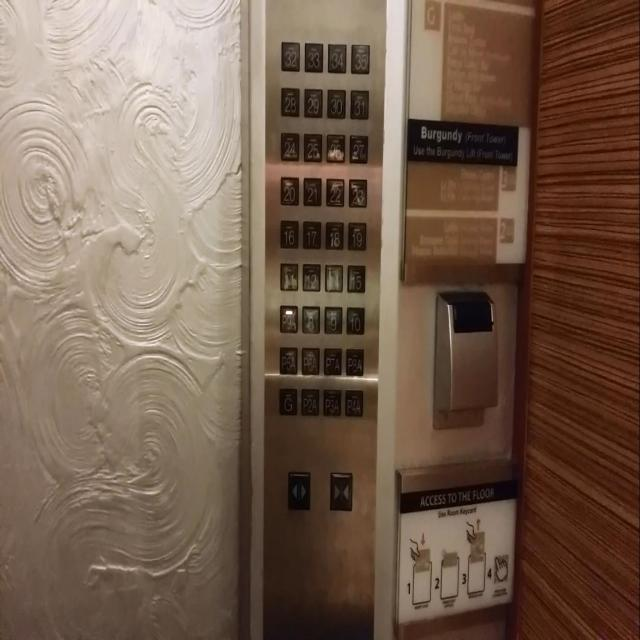10: (346, 305, 365, 335)
11: (279, 260, 298, 292)
12: (302, 262, 320, 291)
14: (324, 264, 343, 292)
15: (347, 263, 365, 294)
16: (280, 218, 298, 250)
17: (302, 219, 321, 249)
18: (325, 220, 344, 250)
19: (347, 221, 366, 251)
20: (280, 174, 299, 206)
21: (302, 176, 322, 207)
22: (326, 176, 344, 206)
23: (348, 176, 367, 208)
24: (280, 132, 299, 162)
25: (303, 132, 322, 162)
26: (326, 132, 345, 162)
27: (349, 134, 368, 164)
28: (280, 85, 299, 116)
29: (303, 86, 322, 118)
30: (327, 86, 346, 118)
31: (350, 89, 368, 120)
32: (280, 39, 300, 72)
33: (304, 40, 322, 73)
34: (327, 42, 346, 74)
35: (351, 42, 370, 76)
8: (301, 304, 319, 334)
9: (324, 305, 342, 334)
G: (278, 386, 297, 416)
P2A: (300, 387, 320, 416)
P3A: (322, 388, 340, 417)
P4A: (344, 388, 363, 417)
P5A: (279, 345, 297, 375)
P6A: (301, 346, 320, 375)
P7A: (323, 346, 342, 376)
P8A: (345, 347, 363, 376)
P9A: (279, 304, 297, 332)
close: (329, 471, 352, 510)
open: (286, 470, 310, 510)
